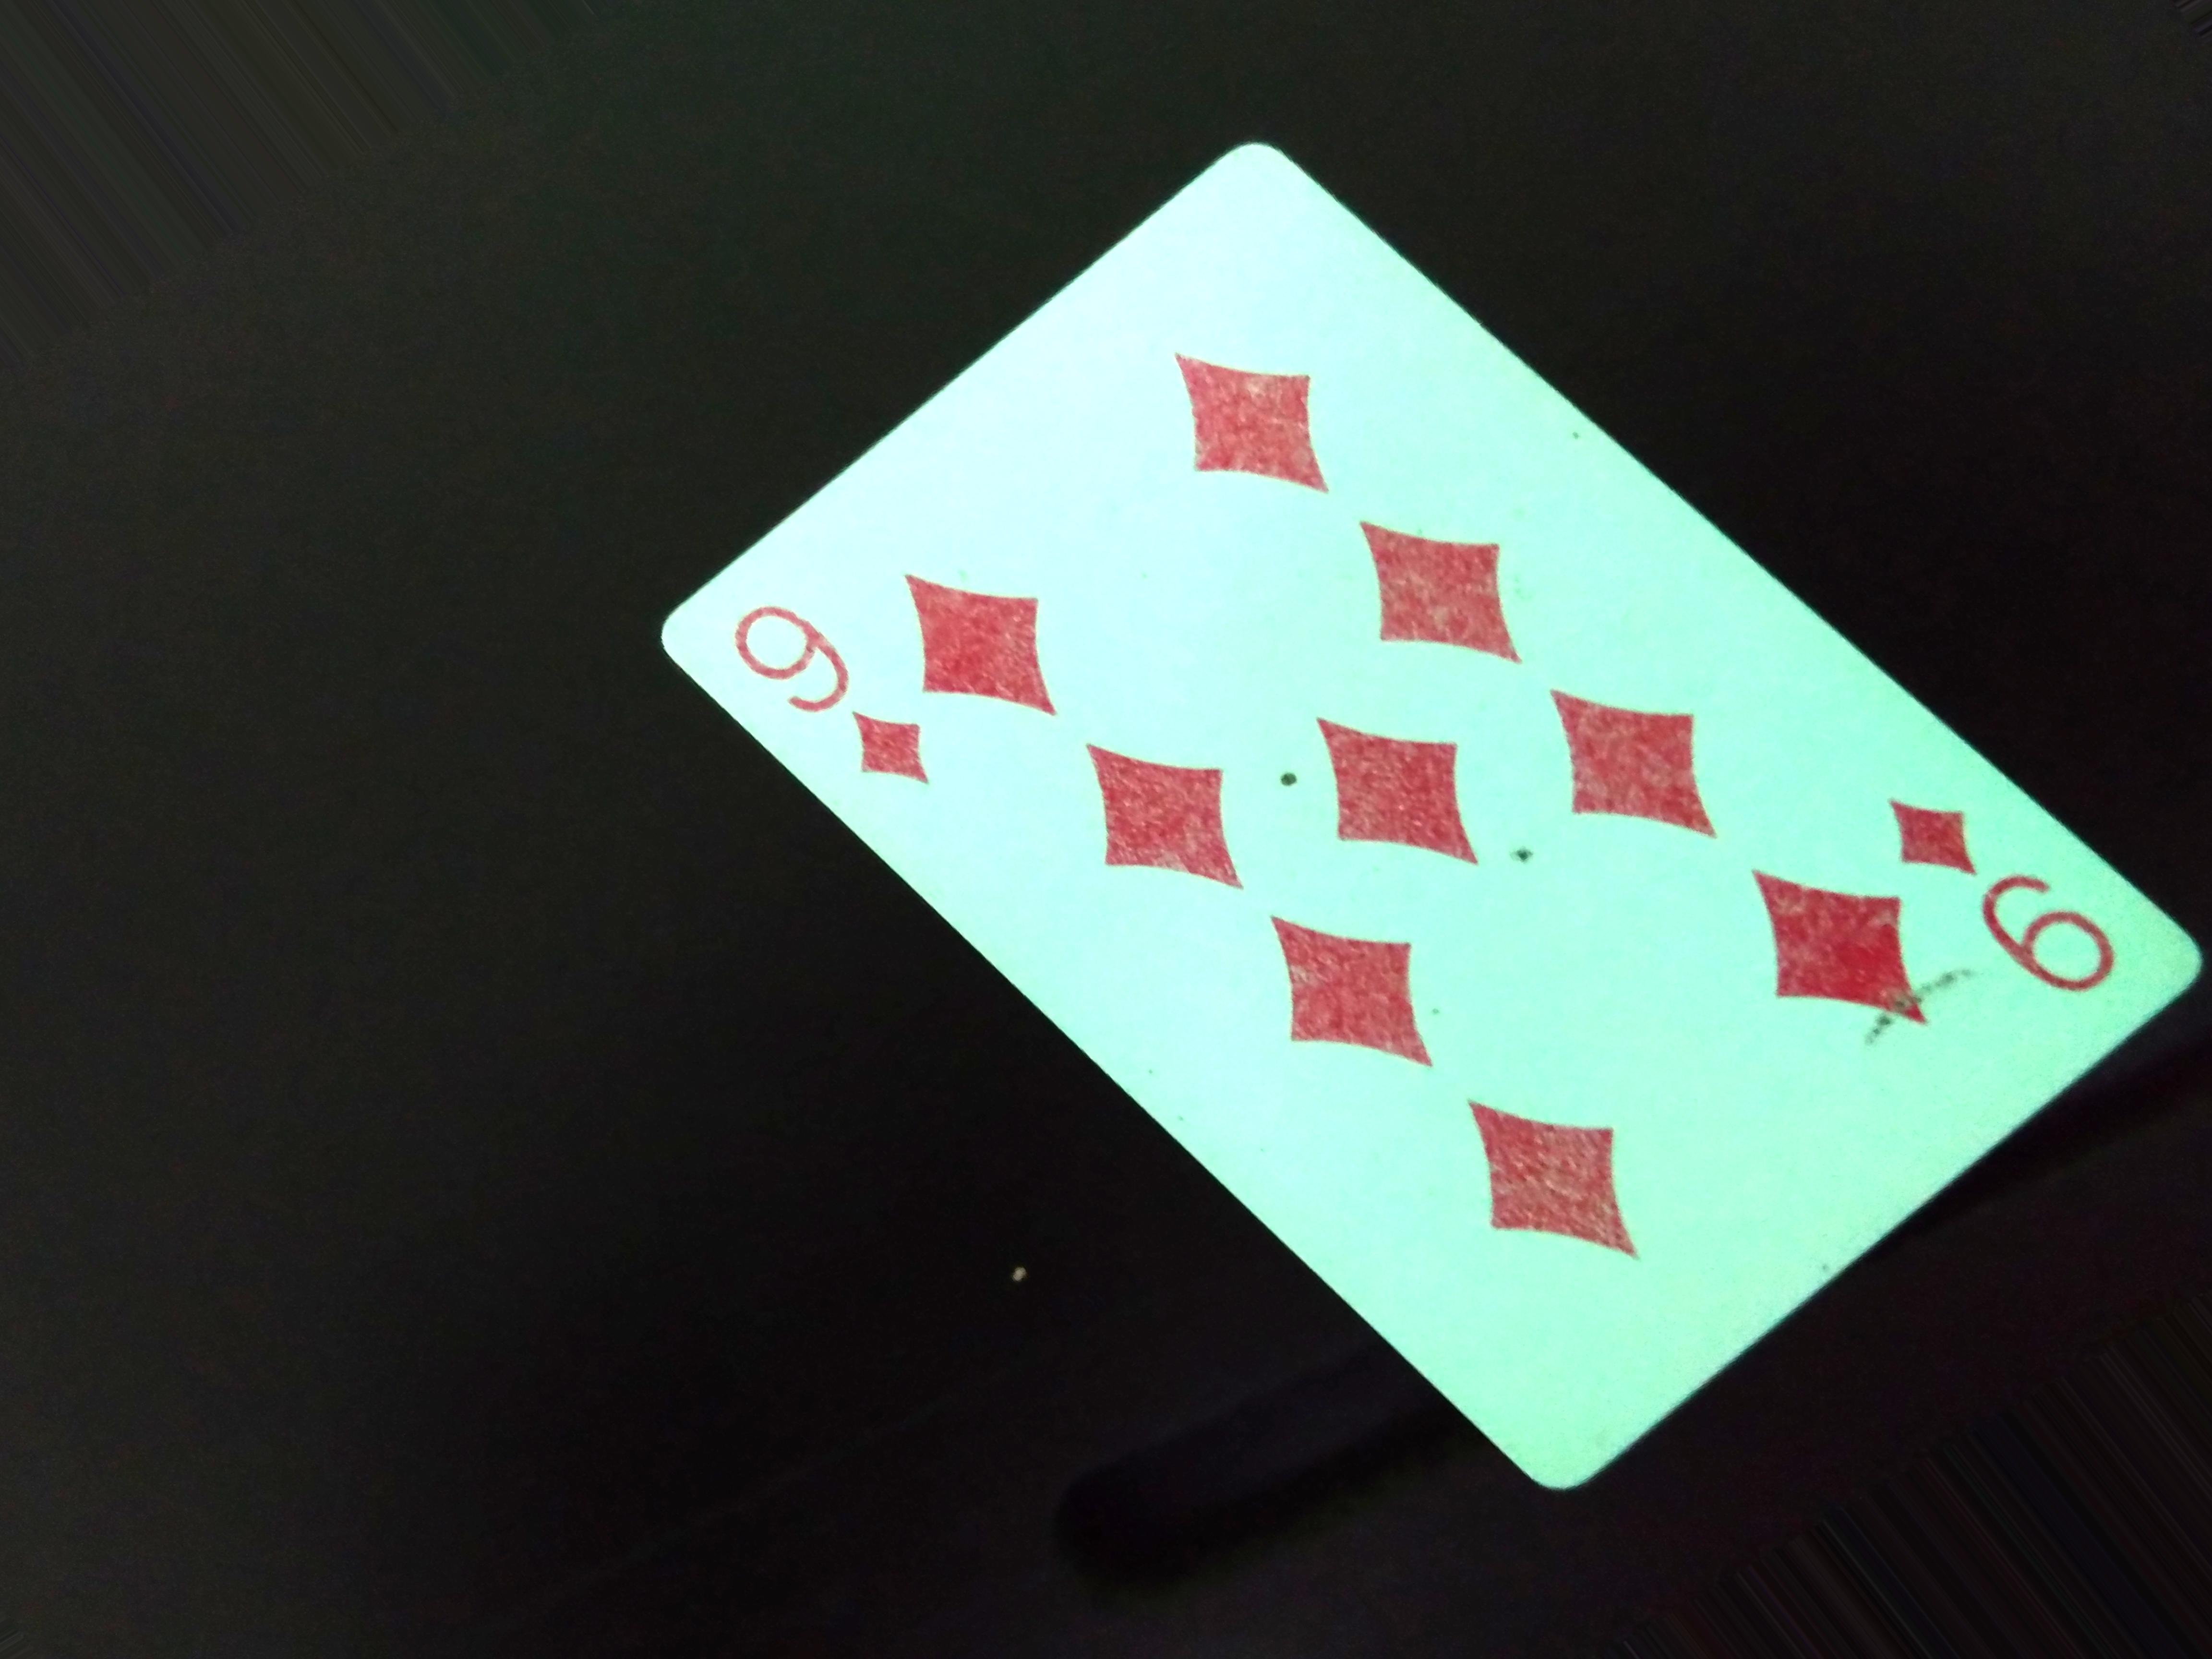9D: (714, 591, 974, 800)
